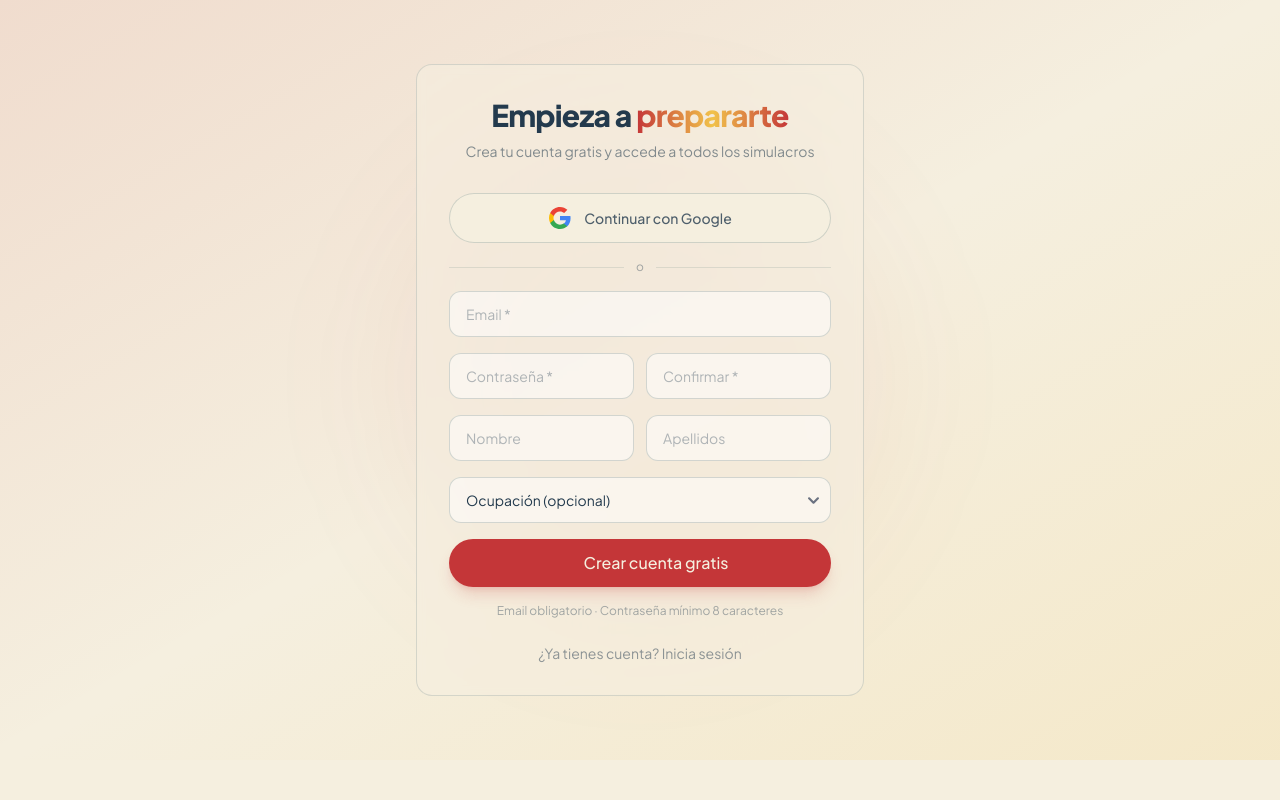
Test: Register component › shows error when email is empty
Step 1. Click the button "Crear cuenta gratis" → click(640, 563), box [449,539,831,587]
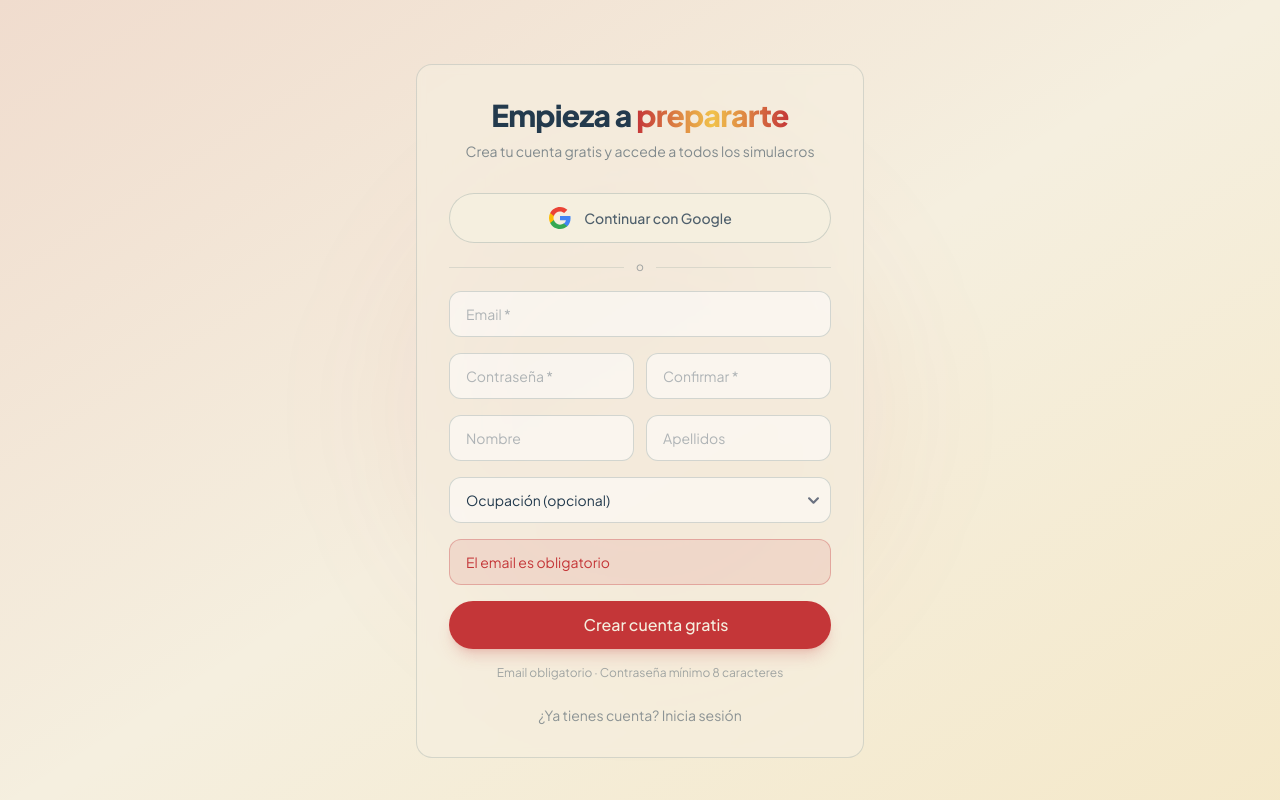
Result: the text "El email es obligatorio" is shown at [449,539,831,585]
